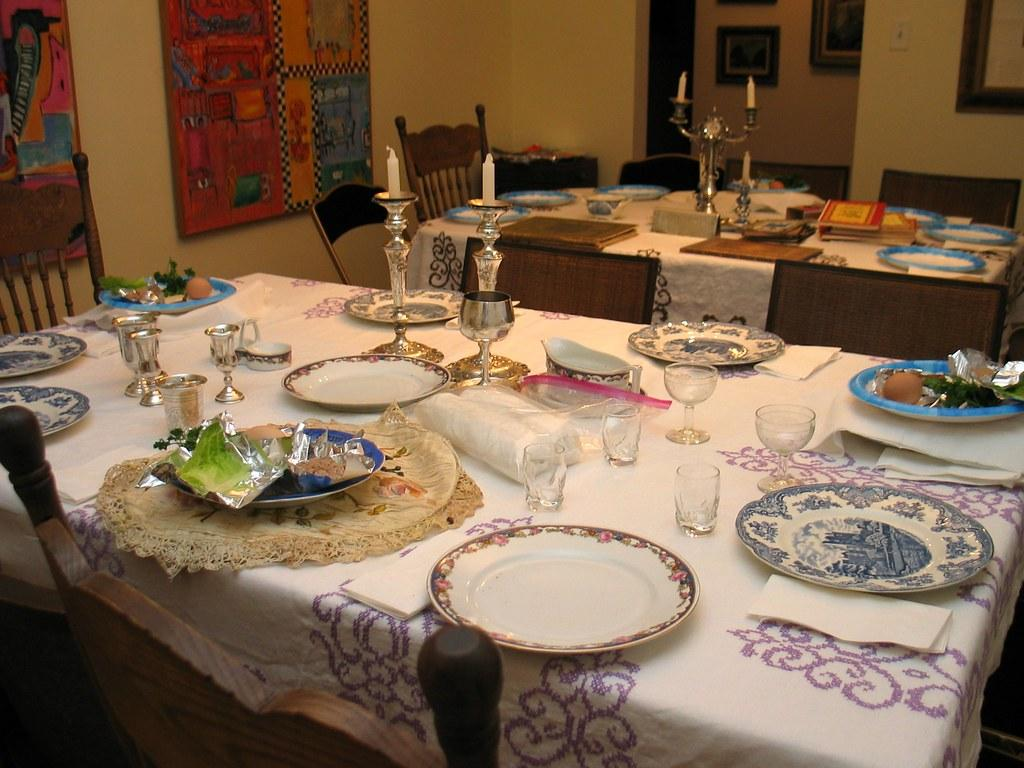table: (1, 269, 1023, 767), (408, 184, 1022, 361)
